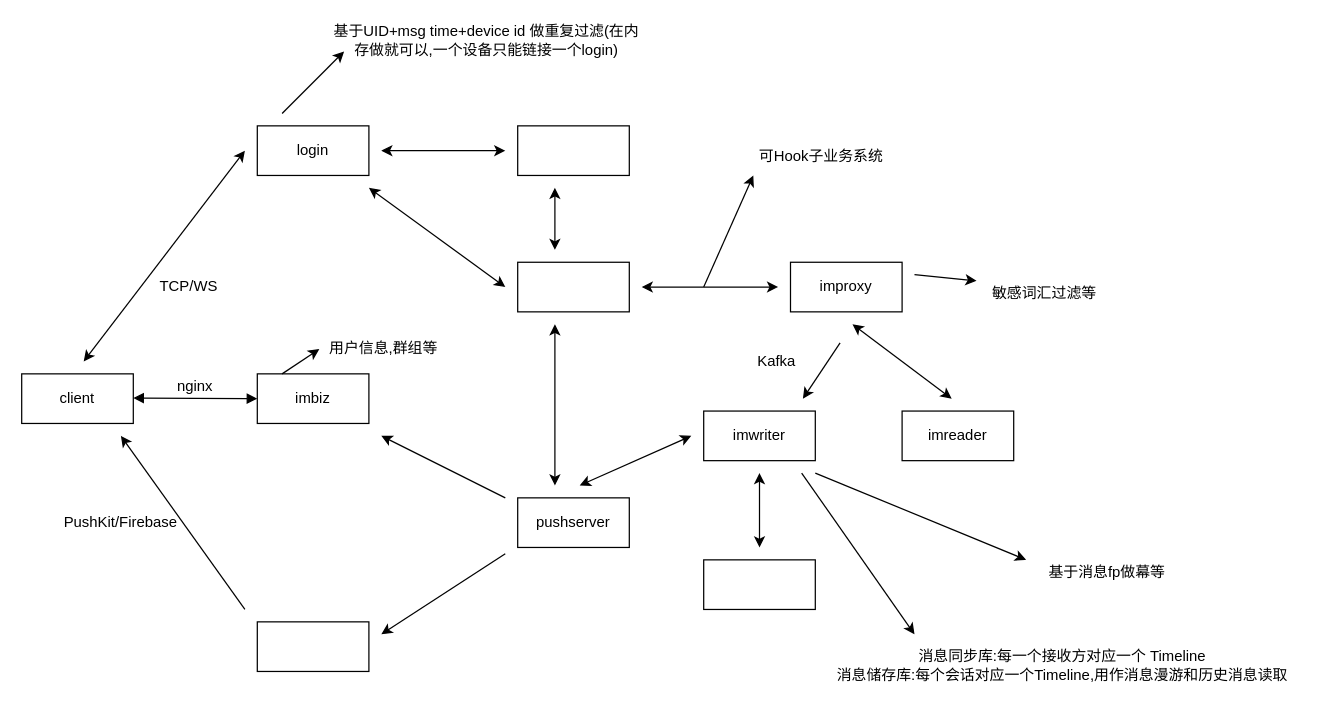
This 1332x704 diagram has some shape labels left out. The shapes that lost their labels are listed below. From the top down, each one's centre as x and y in pixels, then its label:
the point at 572,150: online
the point at 572,286: route
the point at 758,584: gid
the point at 312,646: pushworker
